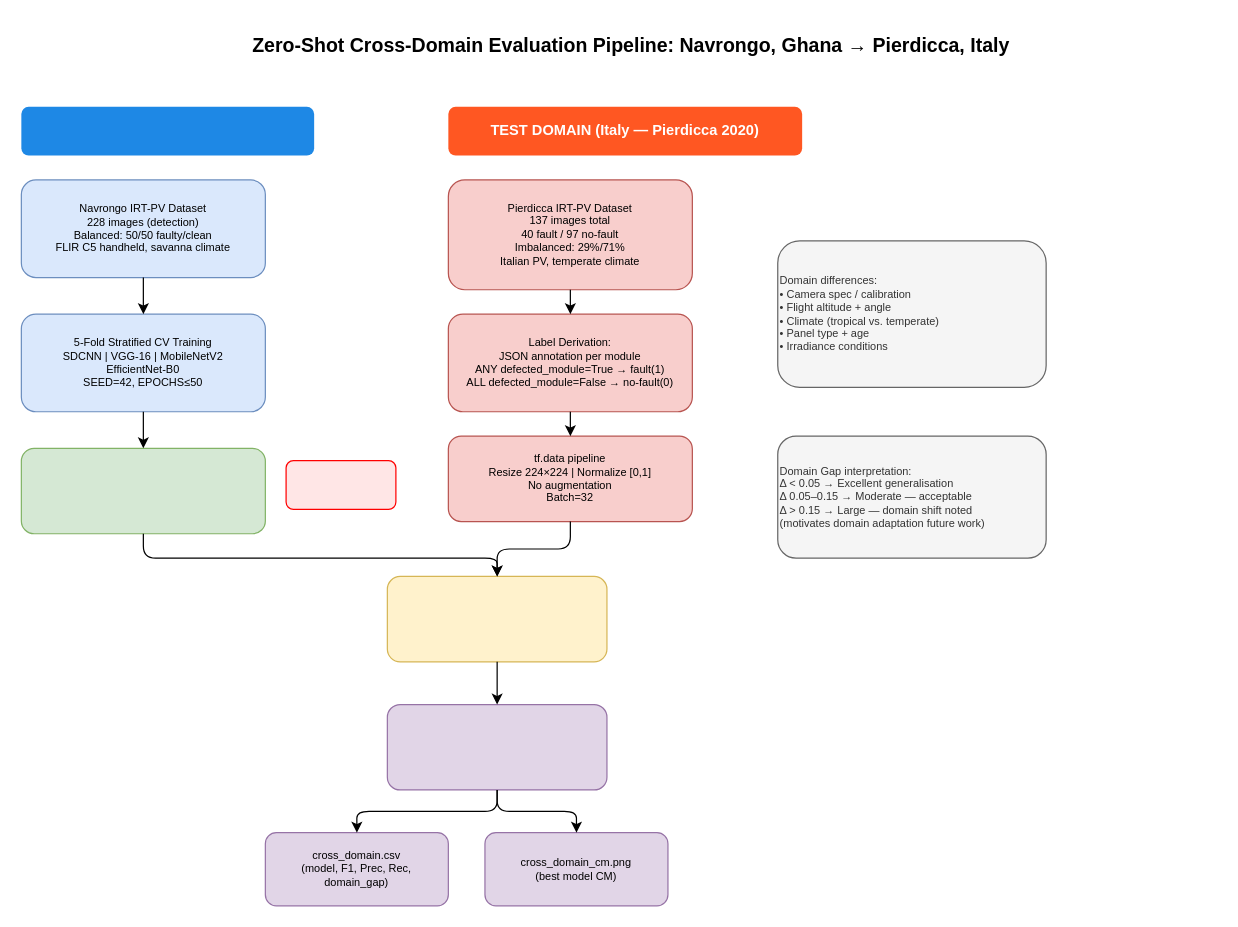
Image size: 1238x927. Some labels were removed from this diagram. Each missing label, with the centre of its shape:
"Best-Fold Weights best_detection_{arch}.keras (highest F1 across folds)" goes at [142,490].
"Metrics: P / R / F1 / Acc Confusion Matrix Domain Gap = InDomain_F1 − CD_F1" goes at [496,746].
"NO FINE-TUNING" goes at [340,484].
"TRAINING DOMAIN (Ghana)" goes at [167,130].
"Zero-Shot Inference model.predict(ext_ds) threshold = 0.5" goes at [496,618].
